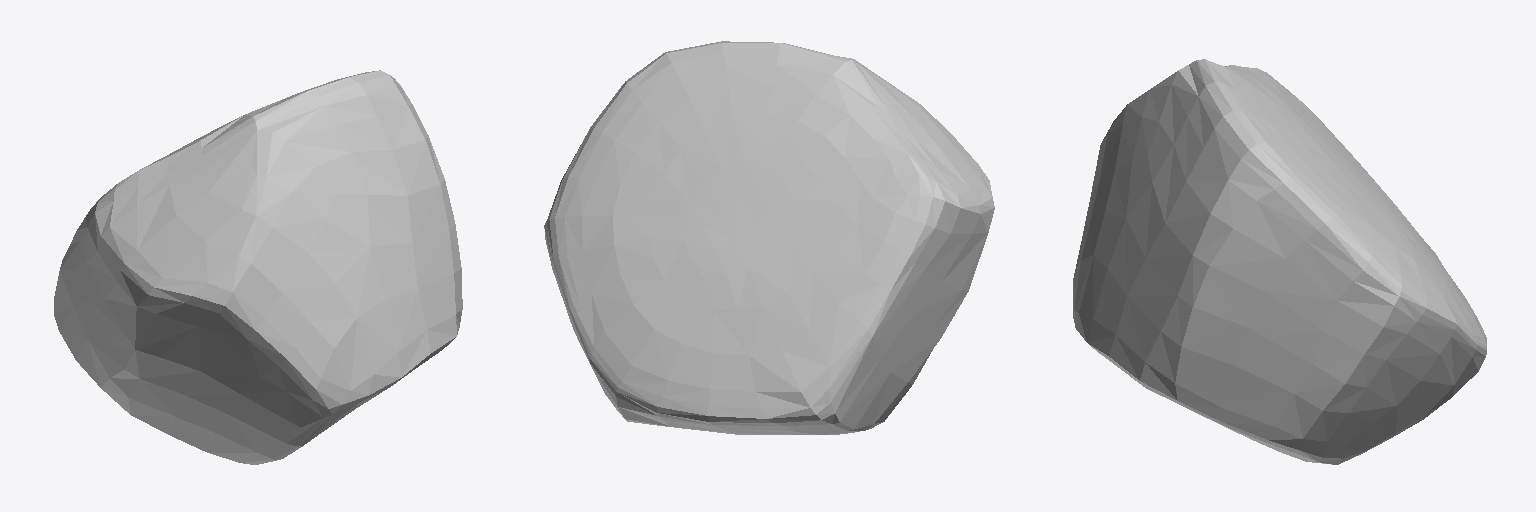
Rendered from Rock1.obj.
3 views of the same model, side by side, from view 1: azimuth 30°, elevation 25°; view 2: azimuth 150°, elevation 25°; view 3: azimuth 270°, elevation 25° (orthographic).
Visible parts, largest first — view 1: Rocks_Scatter_01_Mesh.001; view 2: Rocks_Scatter_01_Mesh.001; view 3: Rocks_Scatter_01_Mesh.001.
Part boxes in pixels (x1,y1,x2,y2): Rocks_Scatter_01_Mesh.001: (54, 70, 462, 464); Rocks_Scatter_01_Mesh.001: (544, 41, 994, 434); Rocks_Scatter_01_Mesh.001: (1073, 59, 1486, 464).
Size of the model in its own units: 1.1 by 1.11 by 1.13.